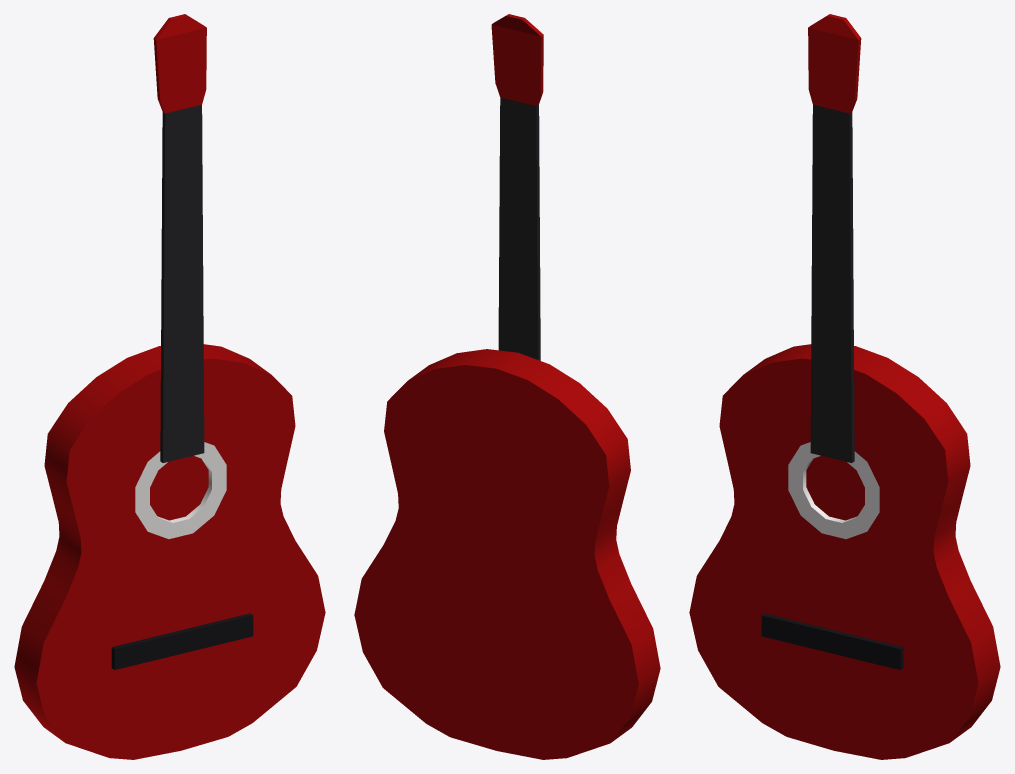
File: b6b99242-7d00-4639-9bf5-faeba5e42f3a.glb
3 renders of one model, left to right at view 1: azimuth 30°, elevation 25°; view 2: azimuth 150°, elevation 25°; view 3: azimuth 330°, elevation 25°, orthographic.
Parts seen in each view (by area): view 1: GuitarAcoustic; view 2: GuitarAcoustic; view 3: GuitarAcoustic.
Part boxes in pixels (bbox=[...]): GuitarAcoustic: bbox=[14, 14, 325, 759]; GuitarAcoustic: bbox=[354, 14, 660, 759]; GuitarAcoustic: bbox=[689, 14, 1000, 759].
Size of what is drawn, in the model's own units: 0.7946 by 1.92 by 0.119.
1 material, 1 textured.
